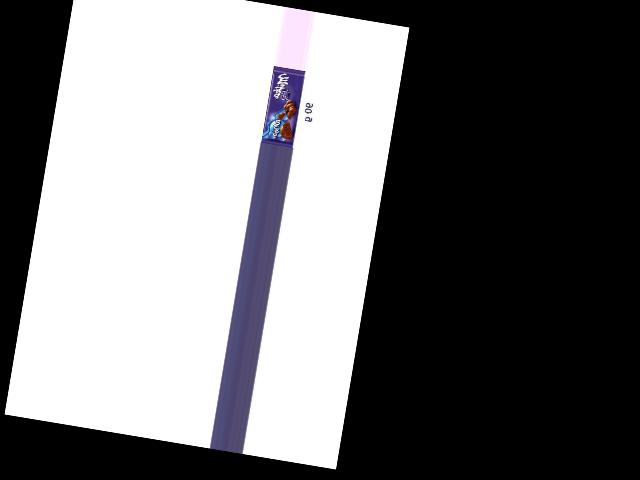chocolate: (260, 67, 305, 148)
